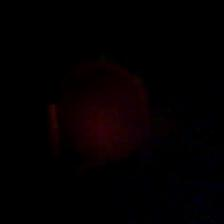fertile: (53, 58, 153, 164)
